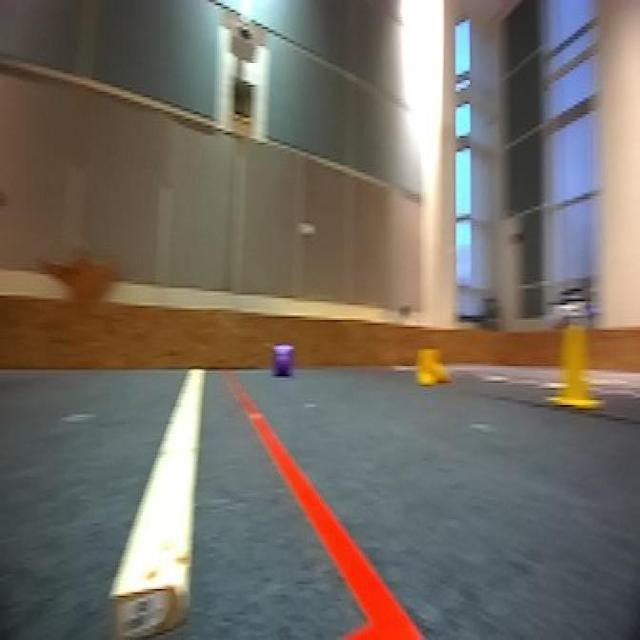frc_cone: (545, 317, 604, 412), (412, 344, 456, 390)
frc_cube: (272, 341, 294, 376)
